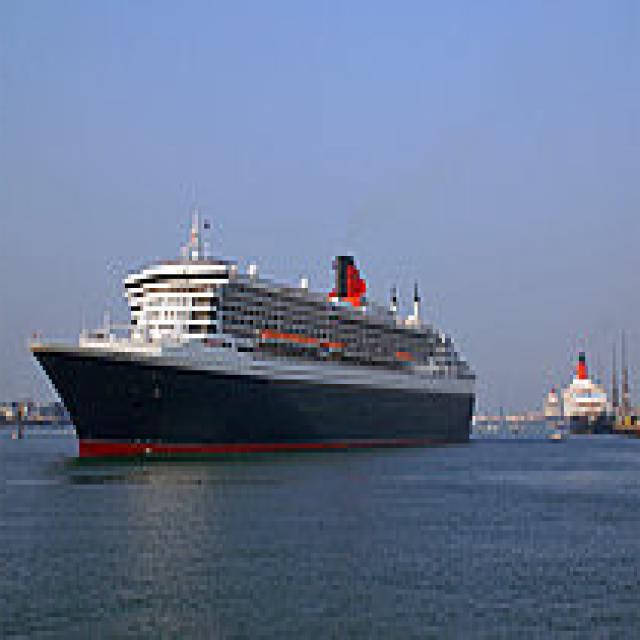Cruise: (31, 201, 482, 457), (564, 338, 616, 434)
